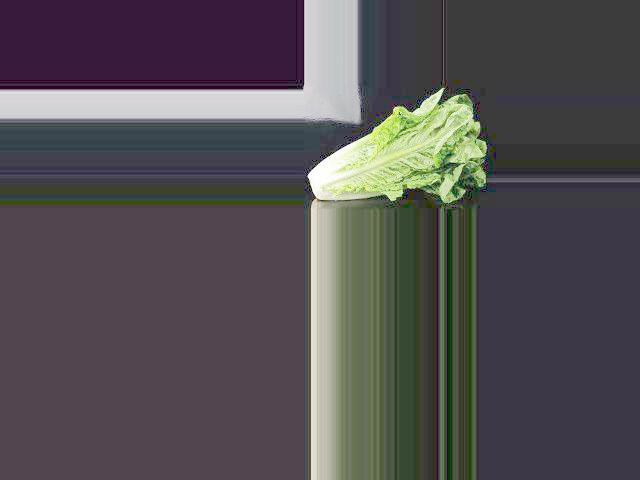lettuce: (310, 95, 480, 196)
